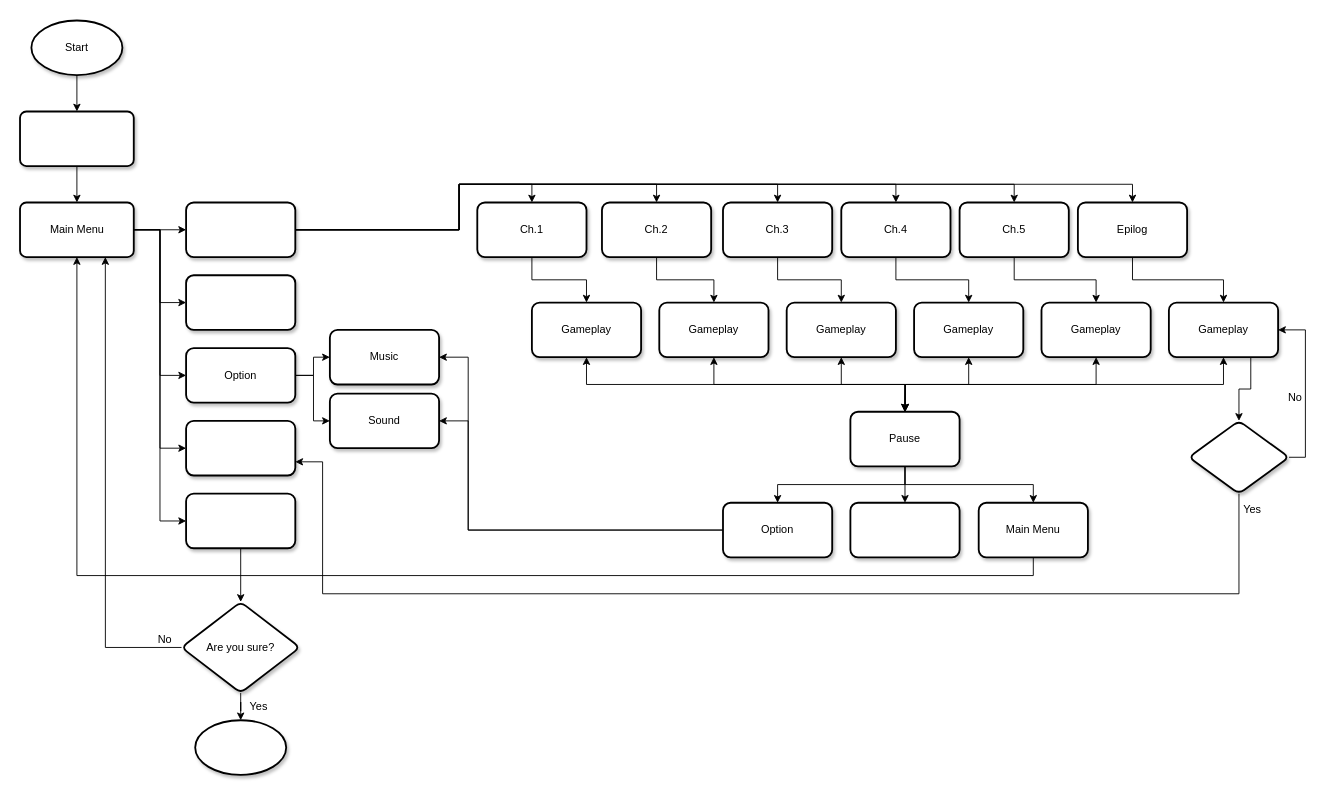
The diagram is 1329 pixels wide and 797 high, and some of its shapes have lost their labels. Here are the shapes that lost their labels. From the top down, the centre of each, then its label:
pixel 77 139: Loading
pixel 241 230: Play
pixel 241 303: Continue
pixel 241 449: Credit
pixel 1239 458: Triger Ending
pixel 241 522: Quit
pixel 905 531: Resume
pixel 241 748: Close
